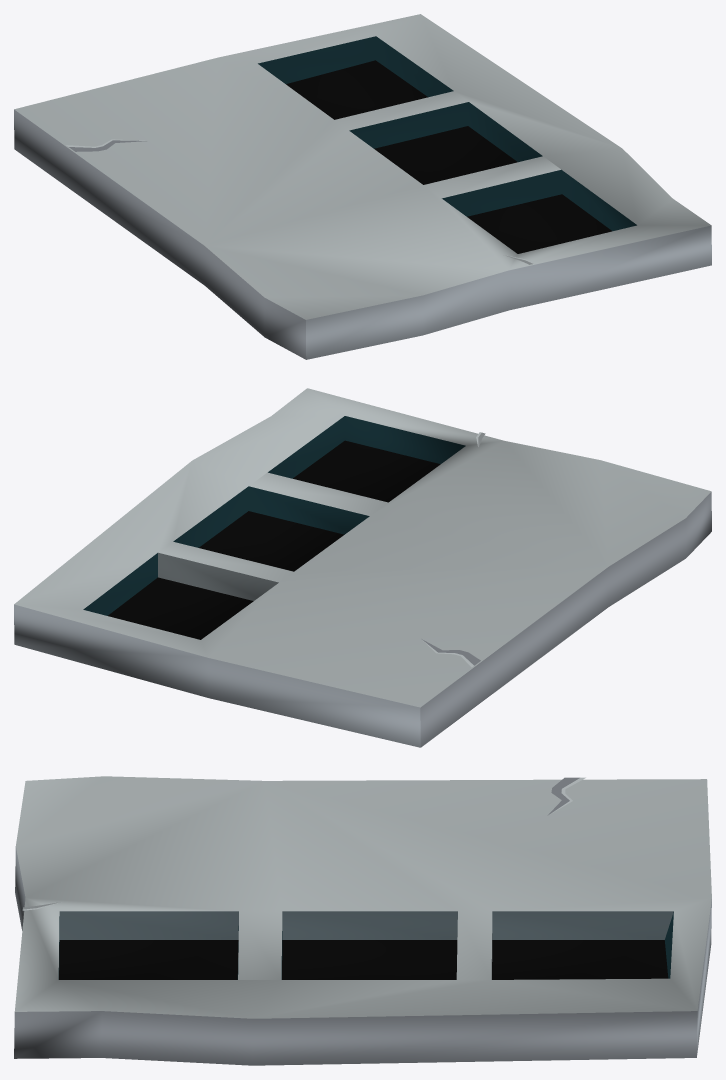
The model's file is PuzzleThreeBase_0.glb.
3 renders of one model, top to bottom at view 1: azimuth 30°, elevation 25°; view 2: azimuth 150°, elevation 25°; view 3: azimuth 270°, elevation 25°, orthographic. The views are drawn at different scales.
Parts seen in each view (by area): view 1: PuzzleThreeBase; view 2: PuzzleThreeBase; view 3: PuzzleThreeBase.
Boxes of the visible parts, x1,y1,x2,y2 form: PuzzleThreeBase: (14, 14, 711, 359); PuzzleThreeBase: (14, 388, 711, 747); PuzzleThreeBase: (14, 776, 711, 1065).
Bounding box in the file's own units: 1.7 × 0.1595 × 2.07.
